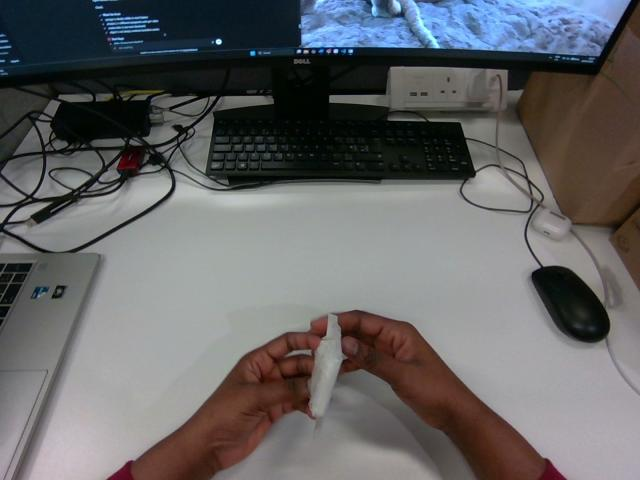gauze: (309, 314, 343, 420)
